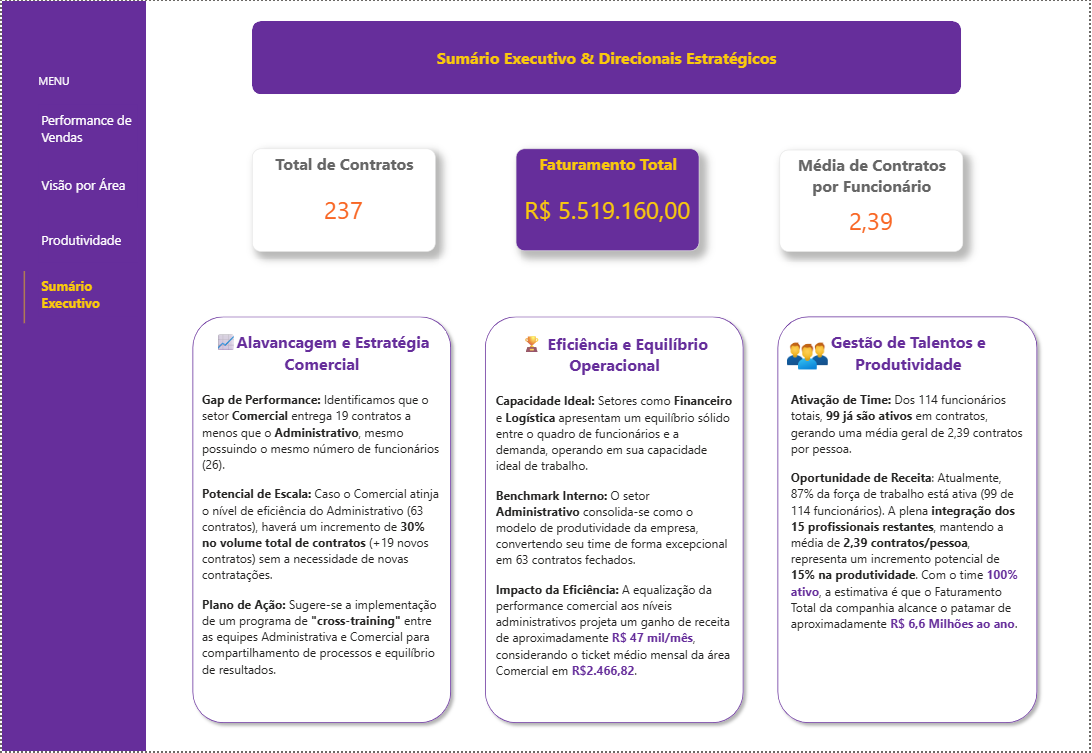

The page's visual inventory and layout, read from the dashboard file:
{"tool":"powerbi","page":{"name":"Sumário Executivo","canvas":[1450,1000],"ordinal":0},"visuals":[{"type":"shape","box":[0,0,192,1000],"z":0},{"type":"shape","box":[48.5,84,100,44],"z":1000},{"type":"actionButton","box":[48.5,139.1,132,63],"z":2000},{"type":"actionButton","box":[48.5,213.1,132.2,62.2],"z":3000},{"type":"shape","box":[20.8,359.5,19.6,69.7],"z":4000},{"type":"actionButton","box":[48.5,286.4,133,62],"z":5000},{"type":"actionButton","box":[48.5,359.5,133.3,61.1],"z":6000},{"type":"shape","box":[333.6,27.3,945.7,97.8],"z":7000},{"type":"card","title":"Faturamento Total","fields":{"Values":["Sum(Ranking_Top5_Vendas.Valor Total Contratos Fechados )"]},"box":[685.1,197.4,244.6,137],"z":8000},{"type":"card","title":"Total de Contratos","fields":{"Values":["Contratos.Total Contratos Fechados"]},"box":[333.6,197.2,244.6,137.2],"z":9000},{"type":"card","title":"Média de Contratos por Funcionário ","fields":{"Values":["Tab Medidas.Taxa de Produtividade (Contratos p/ Funcionário)"]},"box":[1036.6,198.7,244.6,135.7],"z":10000},{"type":"shape","box":[244.6,412.2,362.8,560],"z":11000},{"type":"textbox","title":"📈Alavancagem e Estratégia Comercial","box":[261.1,440,330,483.3],"z":12000},{"type":"shape","box":[635.1,412.2,362.8,560],"z":13000},{"type":"shape","box":[1025.6,412.2,364.4,560],"z":14000},{"type":"textbox","title":"🏆 Eficiência e Equilíbrio Operacional","box":[653.3,442.2,326.7,480],"z":15000},{"type":"textbox","title":"Gestão de Talentos e Produtividade","box":[1046.7,440,323.3,491.1],"z":16000},{"type":"image","box":[1046.7,440,54.4,64.4],"z":17000}]}

Visuals, with their boxes on the page's 1450x1000 design canvas (x1, y1, x2, y2). These are canvas units, not pixel positions in the 1092x753 screenshot, which may show the page scaled, cropped or inside an application window:
shape: x1=0 y1=0 x2=192 y2=1000
shape: x1=48 y1=84 x2=148 y2=128
actionButton: x1=48 y1=139 x2=180 y2=202
actionButton: x1=48 y1=213 x2=181 y2=275
shape: x1=21 y1=360 x2=40 y2=429
actionButton: x1=48 y1=286 x2=182 y2=348
actionButton: x1=48 y1=360 x2=182 y2=421
shape: x1=334 y1=27 x2=1279 y2=125
"Faturamento Total" card: x1=685 y1=197 x2=930 y2=334
"Total de Contratos" card: x1=334 y1=197 x2=578 y2=334
"Média de Contratos por Funcionário " card: x1=1037 y1=199 x2=1281 y2=334
shape: x1=245 y1=412 x2=607 y2=972
"📈Alavancagem e Estratégia Comercial" textbox: x1=261 y1=440 x2=591 y2=923
shape: x1=635 y1=412 x2=998 y2=972
shape: x1=1026 y1=412 x2=1390 y2=972
"🏆 Eficiência e Equilíbrio Operacional" textbox: x1=653 y1=442 x2=980 y2=922
"Gestão de Talentos e Produtividade" textbox: x1=1047 y1=440 x2=1370 y2=931
image: x1=1047 y1=440 x2=1101 y2=504
